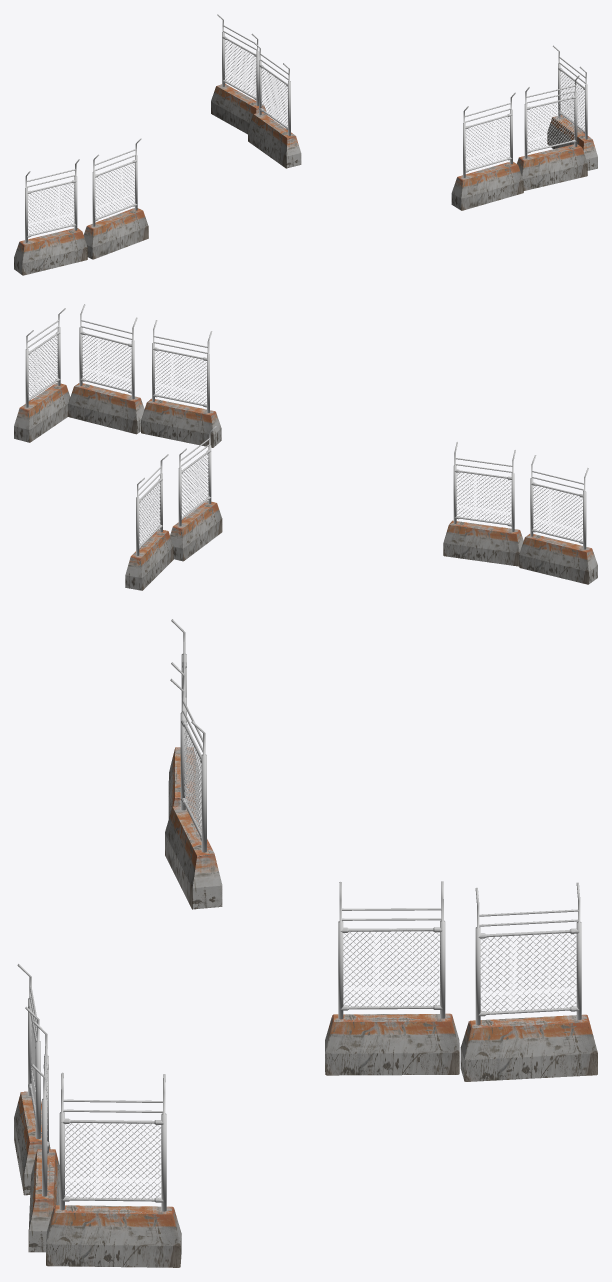
File: rejas.fbx
3 views of the same model, one above another, from view 1: azimuth 30°, elevation 25°; view 2: azimuth 150°, elevation 25°; view 3: azimuth 270°, elevation 25° (orthographic). The views are drawn at different scales.
Parts seen in each view (by area): view 1: Cube.075, Cube.074, Cube.073, Cube.076, Cube.078, Cube.077, Plano subdividido.011, Cube.072, Plano subdividido.009, Plano subdividido.010, Plano subdividido.012, Plano subdividido.013 (+2 smaller); view 2: Cube.076, Cube.074, Cube.075, Cube.073, Cube.072, Cube.078, Cube.077, Plano subdividido.012, Plano subdividido.010, Plano subdividido.009, Plano subdividido.011, Plano subdividido.008 (+2 smaller); view 3: Cube.077, Cube.072, Cube.078, Cube.076, Plano subdividido.013, Plano subdividido.008, Plano subdividido.014, Cube.073, Cube.074, Plano subdividido.012, Cube.075.
Boxes of the visible parts, <box> form: Cube.075: <box>14,228,87,275</box>; Cube.074: <box>451,161,523,210</box>; Cube.073: <box>517,144,587,190</box>; Cube.076: <box>83,208,148,259</box>; Cube.078: <box>248,112,301,168</box>; Cube.077: <box>211,84,267,134</box>; Plano subdividido.011: <box>28,183,74,234</box>; Cube.072: <box>547,115,597,170</box>; Plano subdividido.009: <box>527,99,574,149</box>; Plano subdividido.010: <box>465,117,509,169</box>; Plano subdividido.012: <box>95,163,134,217</box>; Plano subdividido.013: <box>224,40,256,96</box>; Cube.076: <box>443,520,523,566</box>; Cube.074: <box>141,398,221,447</box>; Cube.075: <box>519,534,597,584</box>; Cube.073: <box>68,383,144,434</box>; Cube.072: <box>14,382,70,442</box>; Cube.078: <box>170,500,222,561</box>; Cube.077: <box>125,529,173,590</box>; Plano subdividido.012: <box>456,472,511,523</box>; Plano subdividido.010: <box>154,350,206,404</box>; Plano subdividido.009: <box>82,335,131,390</box>; Plano subdividido.011: <box>533,485,582,541</box>; Plano subdividido.008: <box>28,335,57,397</box>; Cube.077: <box>460,1014,597,1081</box>; Cube.072: <box>46,1205,181,1267</box>; Cube.078: <box>325,1013,459,1075</box>; Cube.076: <box>165,806,222,909</box>; Plano subdividido.013: <box>480,933,576,1012</box>; Plano subdividido.008: <box>64,1123,161,1199</box>; Plano subdividido.014: <box>343,931,440,1007</box>; Cube.073: <box>28,1149,59,1252</box>; Cube.074: <box>14,1091,50,1195</box>; Plano subdividido.012: <box>184,727,201,832</box>; Cube.075: <box>168,747,199,822</box>.
Bounding box in the file's own units: 107 × 19.17 × 55.65.
